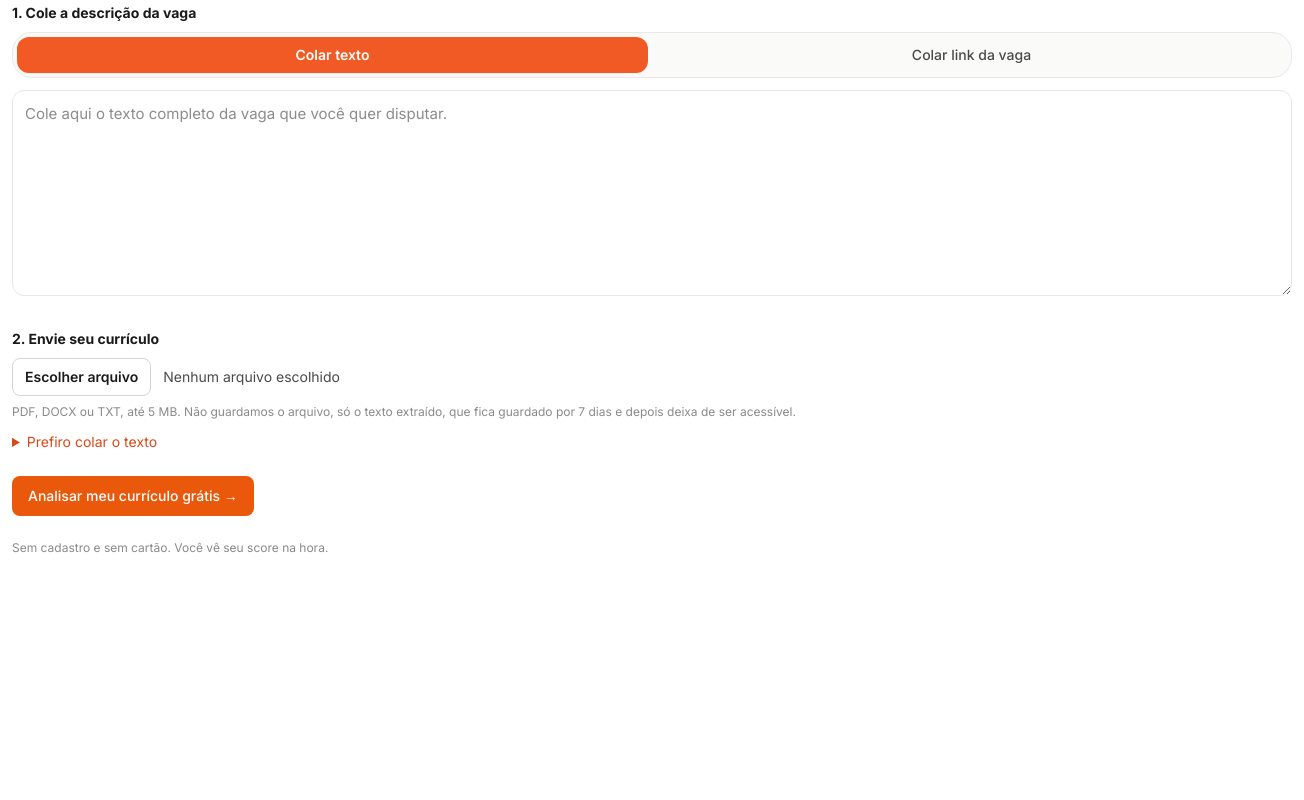
Test case: <AnonAtsForm /> — vaga por link › começa no texto; a aba de link troca o campo da vaga por um campo de link
Expected: the text box labelled "1. Cole a descrição da vaga" is shown, [12,90,1292,296]
Click the tab "Colar link da vaga" at coordinates (972, 55), box [656,37,1287,73]
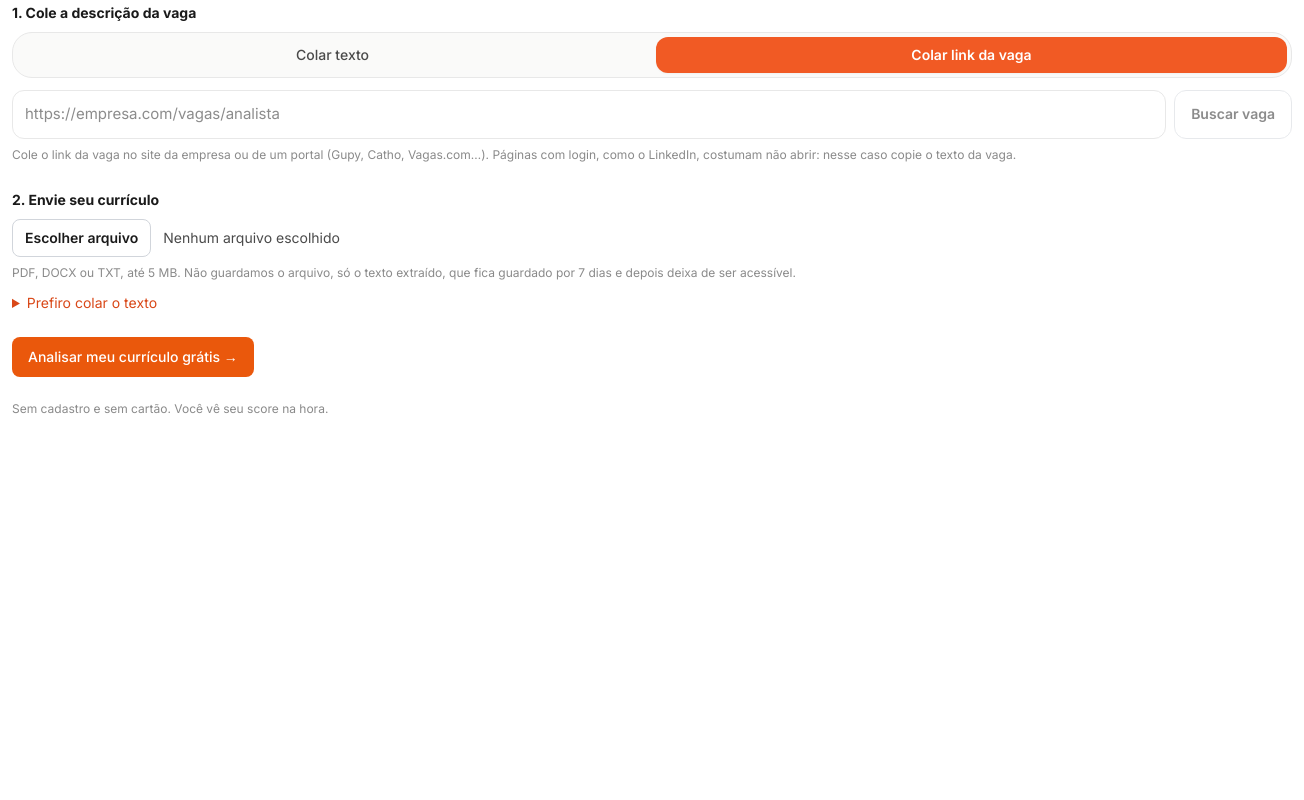
Now the field named "link da vaga" is shown, box [12,90,1166,138]
